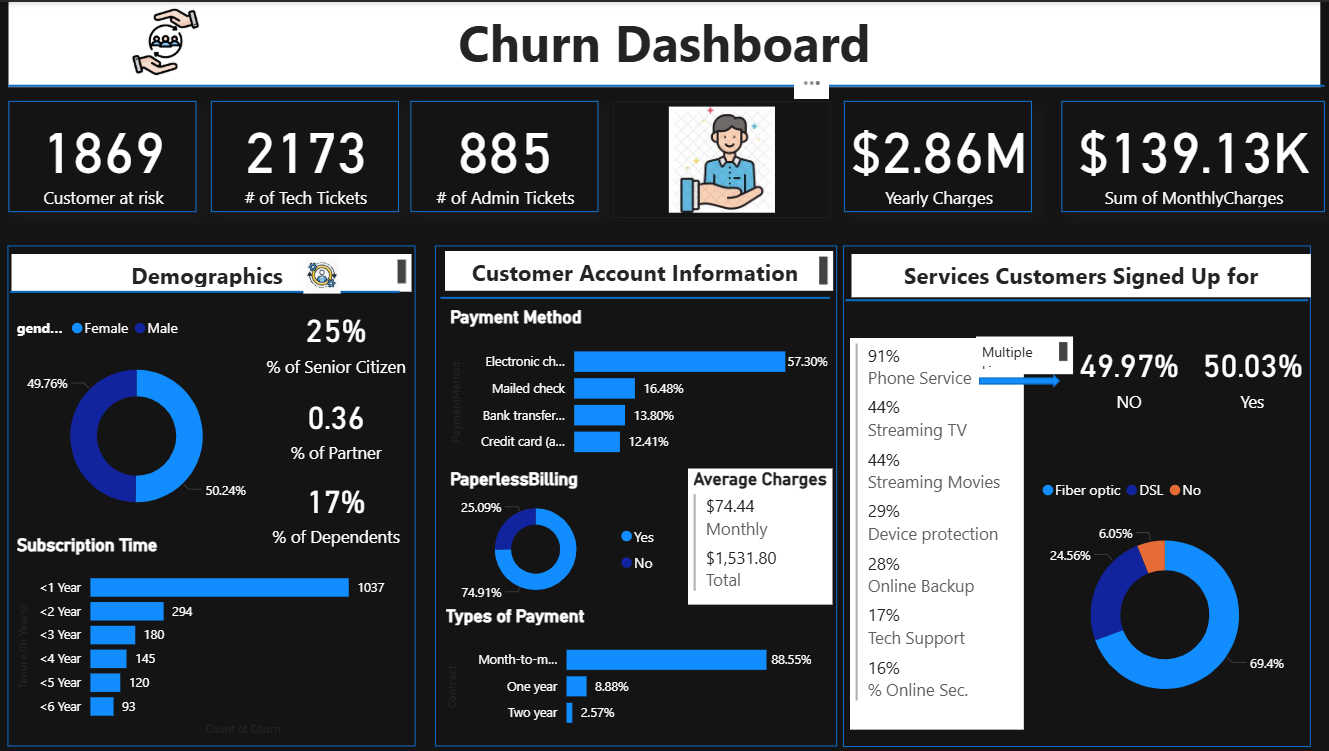

This screenshot's page, from the dashboard's own definition file:
{"tool":"powerbi","page":{"name":"Churn Dashboard","canvas":[1280,720],"ordinal":0},"visuals":[{"type":"textbox","box":[9.4,0,1252.9,81.3],"z":0},{"type":"shape","box":[9.4,60.5,1256.7,39.7],"z":1000},{"type":"card","fields":{"Values":["Count(01 Churn-Dataset.customerID)"]},"box":[9.4,94.4,179.4,105.7],"z":2000},{"type":"card","fields":{"Values":["Sum(01 Churn-Dataset.TotalCharges)"]},"box":[808,94.4,179.4,105.7],"z":3000},{"type":"card","fields":{"Values":["Sum(01 Churn-Dataset.MonthlyCharges)"]},"box":[1015.7,94.4,251.1,105.7],"z":4000},{"type":"card","fields":{"Values":["Sum(01 Churn-Dataset.numAdminTickets)"]},"box":[394.6,94.4,179.4,105.7],"z":5000},{"type":"card","fields":{"Values":["Sum(01 Churn-Dataset.numTechTickets)"]},"box":[203.9,94.4,179.4,105.7],"z":6000},{"type":"shape","box":[0,222.8,407.8,496.5],"z":7000},{"type":"textbox","box":[13.2,240,381.7,35.9],"z":8000},{"type":"shape","box":[11.3,266.2,371.9,20.8],"z":9000},{"type":"donutChart","fields":{"Category":["01 Churn-Dataset.gender"],"Y":["CountNonNull(01 Churn-Dataset.gender)"]},"box":[13.2,291,238.1,217.3],"z":10000},{"type":"card","fields":{"Values":["Churn.% of Senior Citizen"]},"box":[251.3,281.6,143.6,81.3],"z":11000},{"type":"card","fields":{"Values":["Churn.% of Partner"]},"box":[251.3,367.6,143.6,73.7],"z":12000},{"type":"card","fields":{"Values":["Churn.% of Dependents"]},"box":[251.3,446,143.6,79.4],"z":13000},{"type":"clusteredBarChart","title":"Subscription Time","fields":{"Category":["Churn.Tenure (In Years)"],"Y":["CountNonNull(Churn.Churn)"]},"box":[13.2,507.8,371.9,196.3],"z":14000},{"type":"shape","box":[407.8,222.8,402.1,496.5],"z":15000},{"type":"shape","box":[797.5,223,464.9,497],"z":16000},{"type":"textbox","box":[427.1,238.1,370.4,37.8],"z":17000},{"type":"shape","box":[422.9,271.9,371.9,20.8],"z":18000},{"type":"clusteredBarChart","title":"Payment Method","fields":{"Category":["Churn.PaymentMethod"],"Y":["CountNonNull(Churn.PaymentMethod)"]},"box":[426.7,290.7,370,154.8],"z":19000},{"type":"donutChart","title":"PaperlessBilling","fields":{"Category":["Churn.PaperlessBilling"],"Y":["CountNonNull(Churn.PaperlessBilling)"]},"box":[426.7,445.5,213.3,134],"z":20000},{"type":"multiRowCard","title":"Average Charges","fields":{"Values":["Avg(Churn.MonthlyCharges)","Avg(Churn.TotalCharges)"]},"box":[658.9,445.5,137.8,130.3],"z":21000},{"type":"clusteredBarChart","title":"Types of Payment","fields":{"Category":["Churn.Contract"],"Y":["CountNonNull(Churn.Contract)"]},"box":[422.9,575.8,358.7,128.4],"z":22000},{"type":"multiRowCard","fields":{"Values":["Churn.% Phone Service","Churn.% Streaming TV","Churn.% Streaming Movies","Churn.% Device protection","Churn.% Online Backup","Churn.% Tech Support","Churn.% Online Sec."]},"box":[813.7,320.9,166.1,373.8],"z":23000},{"type":"shape","box":[937.3,355.3,77.5,13.2],"z":24000},{"type":"textbox","box":[933.6,319.4,92.6,35.9],"z":25000},{"type":"card","fields":{"Values":["Churn.% NO-Multiple lines"]},"box":[1018.6,309.9,122.8,92.6],"z":26000},{"type":"card","fields":{"Values":["Churn.% Yes-Multiple Lines"]},"box":[1141.4,309.9,111.5,92.6],"z":27000},{"type":"donutChart","title":"PaperlessBilling","fields":{"Category":["Churn.InternetService"],"Y":["CountNonNull(Churn.InternetService)"]},"box":[991.2,445.5,245.4,249.2],"z":28000},{"type":"textbox","box":[814.5,240,438.4,41.6],"z":29000},{"type":"shape","box":[809.9,258.6,441.8,51],"z":30000},{"type":"image","box":[587.1,94.4,207.7,111.4],"z":32000},{"type":"image","box":[9.4,0,300.2,75.5],"z":33000},{"type":"image","box":[257,238.1,105.8,45.4],"z":34000}]}

Visuals, with their boxes in screenshot pixels (x1, y1, x2, y2), scaled from the page's 1280x720 canvas onto the 1329x751 screenshot:
textbox: 10:0:1311:85
shape: 10:63:1315:105
card - Count(01 Churn-Dataset.customerID): 10:98:196:209
card - Sum(01 Churn-Dataset.TotalCharges): 839:98:1025:209
card - Sum(01 Churn-Dataset.MonthlyCharges): 1055:98:1315:209
card - Sum(01 Churn-Dataset.numAdminTickets): 410:98:596:209
card - Sum(01 Churn-Dataset.numTechTickets): 212:98:398:209
shape: 0:232:423:750
textbox: 14:250:410:288
shape: 12:278:398:299
donutChart - 01 Churn-Dataset.gender x CountNonNull(01 Churn-Dataset.gender): 14:304:261:530
card - Churn.% of Senior Citizen: 261:294:410:379
card - Churn.% of Partner: 261:383:410:460
card - Churn.% of Dependents: 261:465:410:548
"Subscription Time" clusteredBarChart: 14:530:400:734
shape: 423:232:841:750
shape: 828:233:1311:750
textbox: 443:248:828:288
shape: 439:284:825:305
"Payment Method" clusteredBarChart: 443:303:827:465
"PaperlessBilling" donutChart: 443:465:664:604
"Average Charges" multiRowCard: 684:465:827:601
"Types of Payment" clusteredBarChart: 439:601:812:735
multiRowCard - Churn.% Phone Service x Churn.% Streaming TV: 845:335:1017:725
shape: 973:371:1054:384
textbox: 969:333:1065:371
card - Churn.% NO-Multiple lines: 1058:323:1185:420
card - Churn.% Yes-Multiple Lines: 1185:323:1301:420
"PaperlessBilling" donutChart: 1029:465:1284:725
textbox: 846:250:1301:294
shape: 841:270:1300:323
image: 610:98:825:215
image: 10:0:321:79
image: 267:248:377:296
